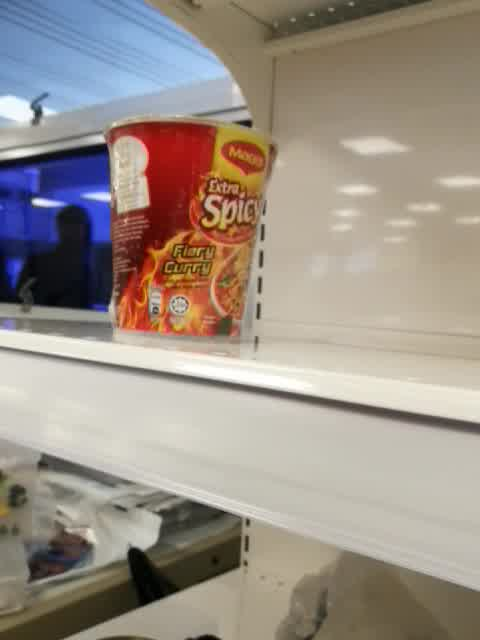maggi: (102, 115, 279, 342)
